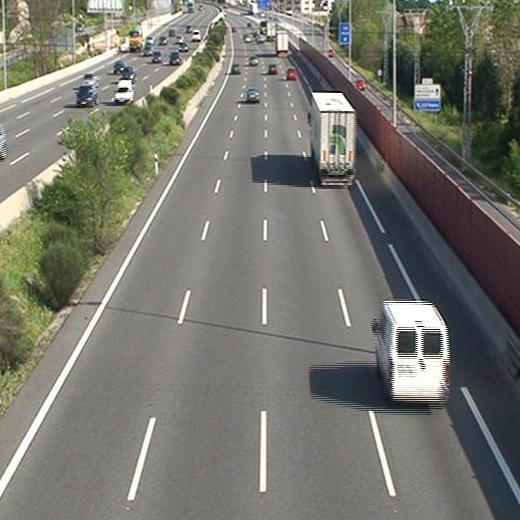car: (247, 87, 260, 101), (249, 55, 258, 66), (231, 64, 240, 74), (287, 69, 296, 79), (268, 65, 278, 74)
truck: (308, 93, 355, 185), (275, 31, 288, 58)
van: (377, 302, 450, 402)
